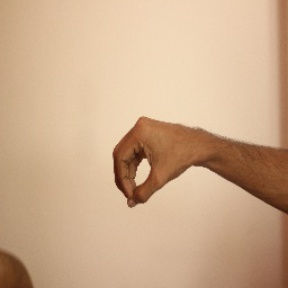O: (112, 114, 194, 209)
